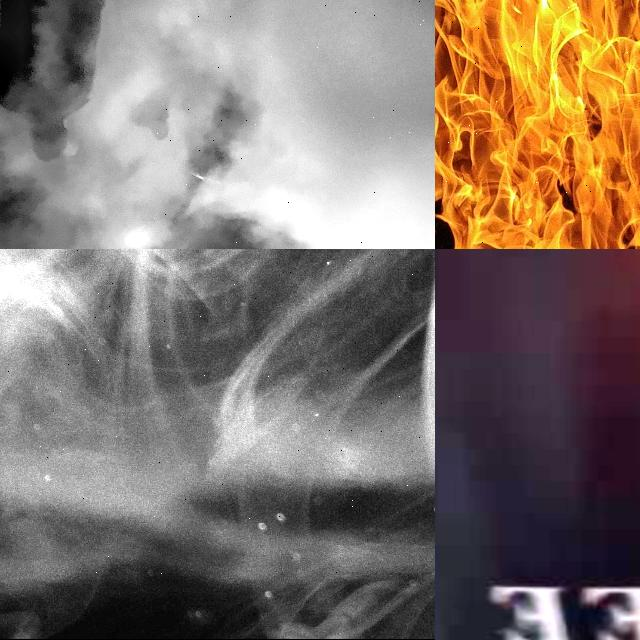fire: (435, 0, 640, 249)
smoke: (0, 249, 435, 574), (149, 0, 435, 249)
